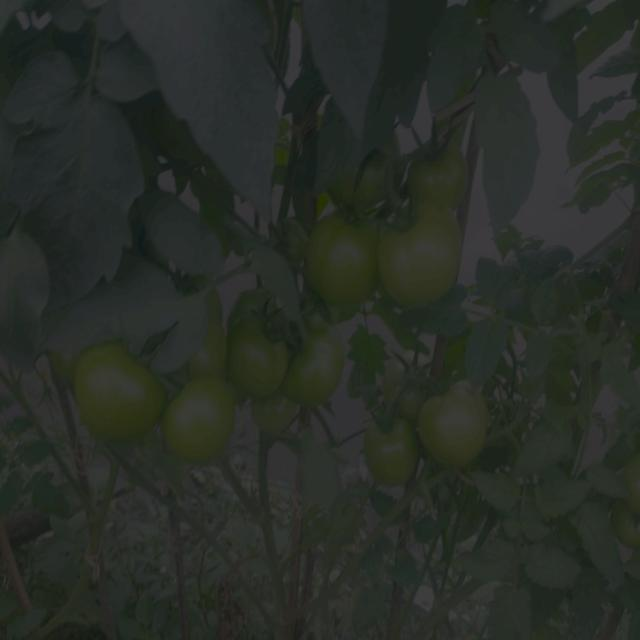tomato: (377, 190, 465, 310), (73, 348, 163, 431), (421, 389, 496, 467), (312, 217, 378, 301), (168, 384, 235, 462), (363, 410, 425, 489), (291, 316, 342, 407), (240, 316, 288, 397), (411, 128, 464, 198), (615, 502, 640, 557)
